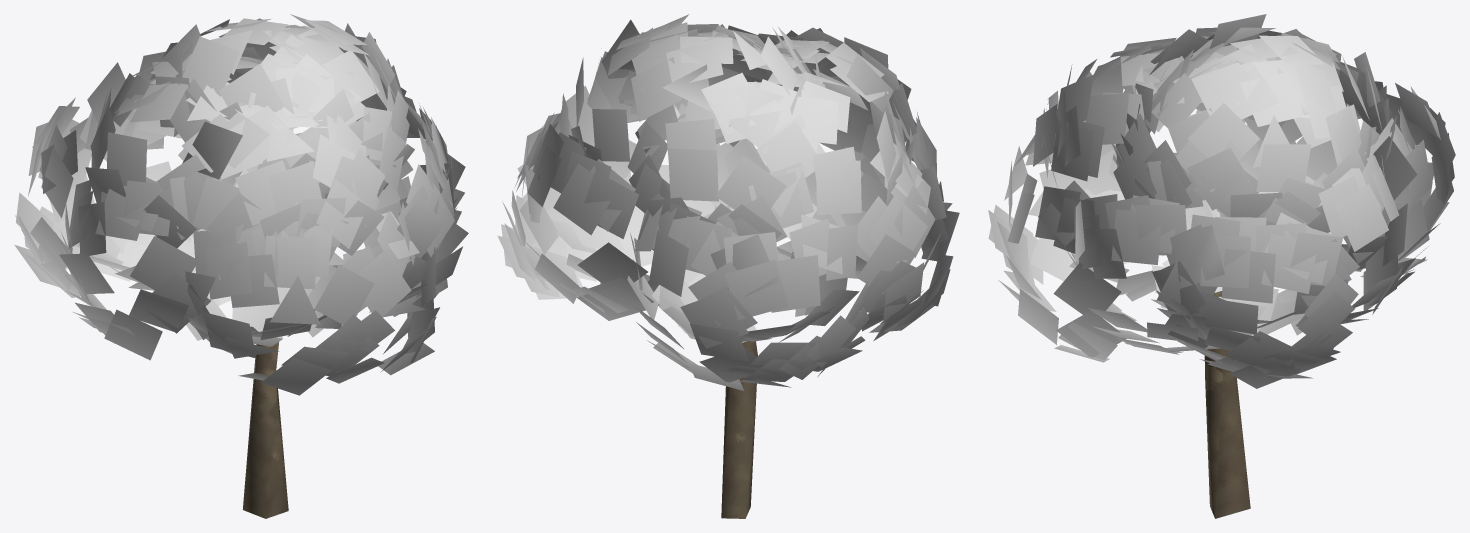
Rendered from Standar Tree Small_LOD_2.fbx.
3 renders of one model, left to right at view 1: azimuth 30°, elevation 25°; view 2: azimuth 150°, elevation 25°; view 3: azimuth 270°, elevation 25°, orthographic. The views are drawn at different scales.
Parts seen in each view (by area): view 1: Top_Tree_Small_LOD_2, Standar_Trunk_Small_LOD_2; view 2: Top_Tree_Small_LOD_2, Standar_Trunk_Small_LOD_2; view 3: Top_Tree_Small_LOD_2, Standar_Trunk_Small_LOD_2.
Part boxes in pixels (bbox=[...]): Top_Tree_Small_LOD_2: bbox=[14, 14, 468, 395]; Standar_Trunk_Small_LOD_2: bbox=[242, 342, 288, 518]; Top_Tree_Small_LOD_2: bbox=[497, 14, 959, 390]; Standar_Trunk_Small_LOD_2: bbox=[721, 341, 757, 518]; Top_Tree_Small_LOD_2: bbox=[988, 14, 1455, 388]; Standar_Trunk_Small_LOD_2: bbox=[1204, 291, 1250, 518].
Bounding box in the file's own units: 1616 × 1873 × 1655.
